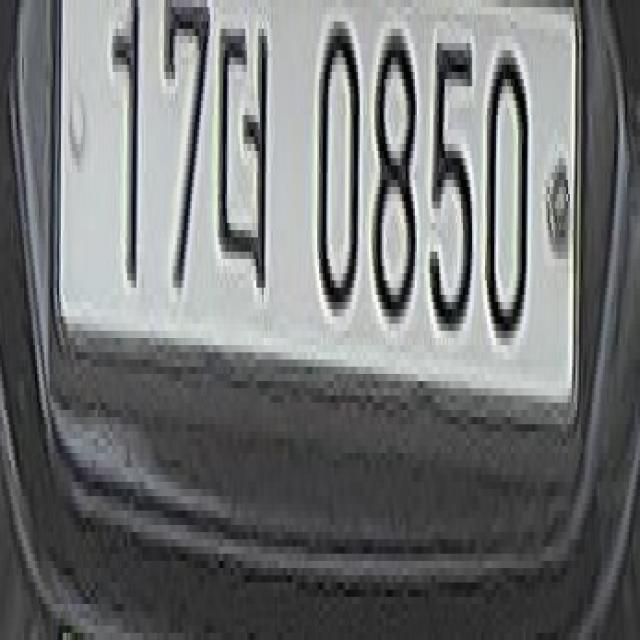0: (476, 8, 538, 352), (314, 7, 367, 324)
1: (107, 7, 146, 295)
5: (424, 8, 478, 352)
7: (159, 7, 212, 302)
8: (369, 7, 420, 338)
deo: (214, 7, 269, 309)
license_plate: (46, 7, 581, 446)
